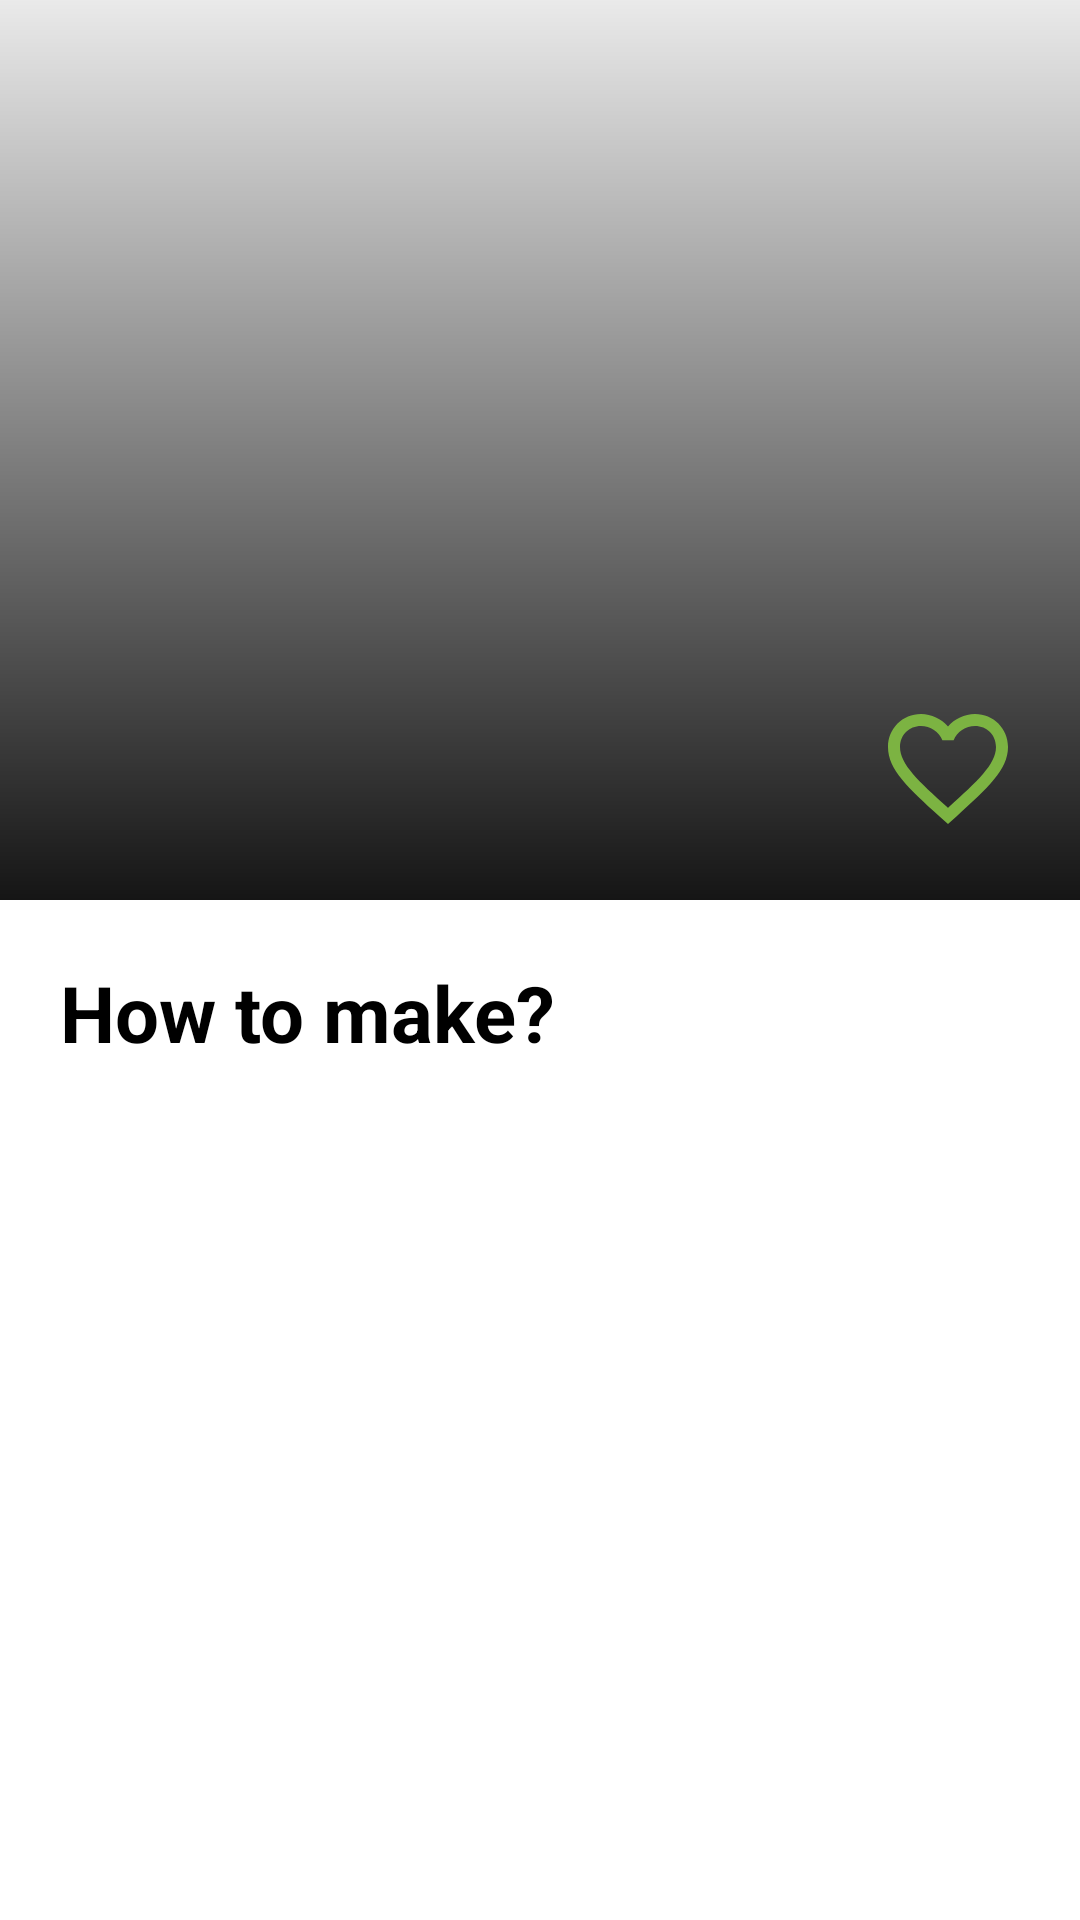

Screen size 1080px×1920px. Icon name, then its center in pixels as point (x, y):
favorite border: point (948, 768)
